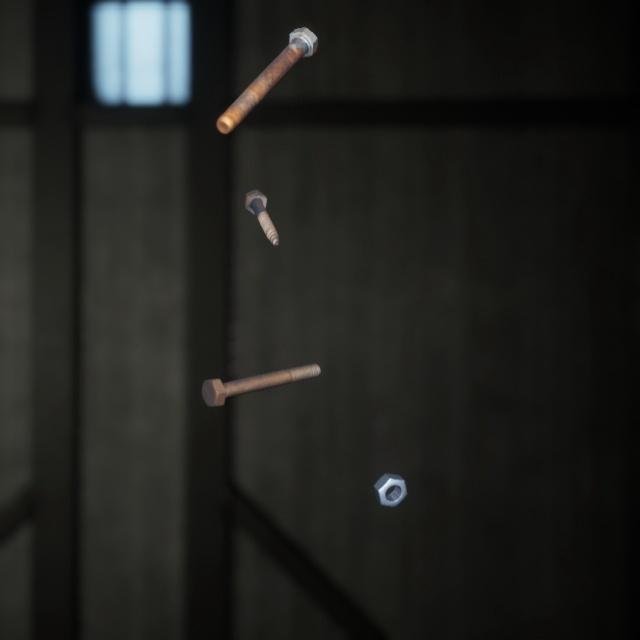bolt: (211, 12, 322, 126), (197, 339, 324, 391), (239, 169, 283, 233)
nut: (369, 448, 412, 491)
